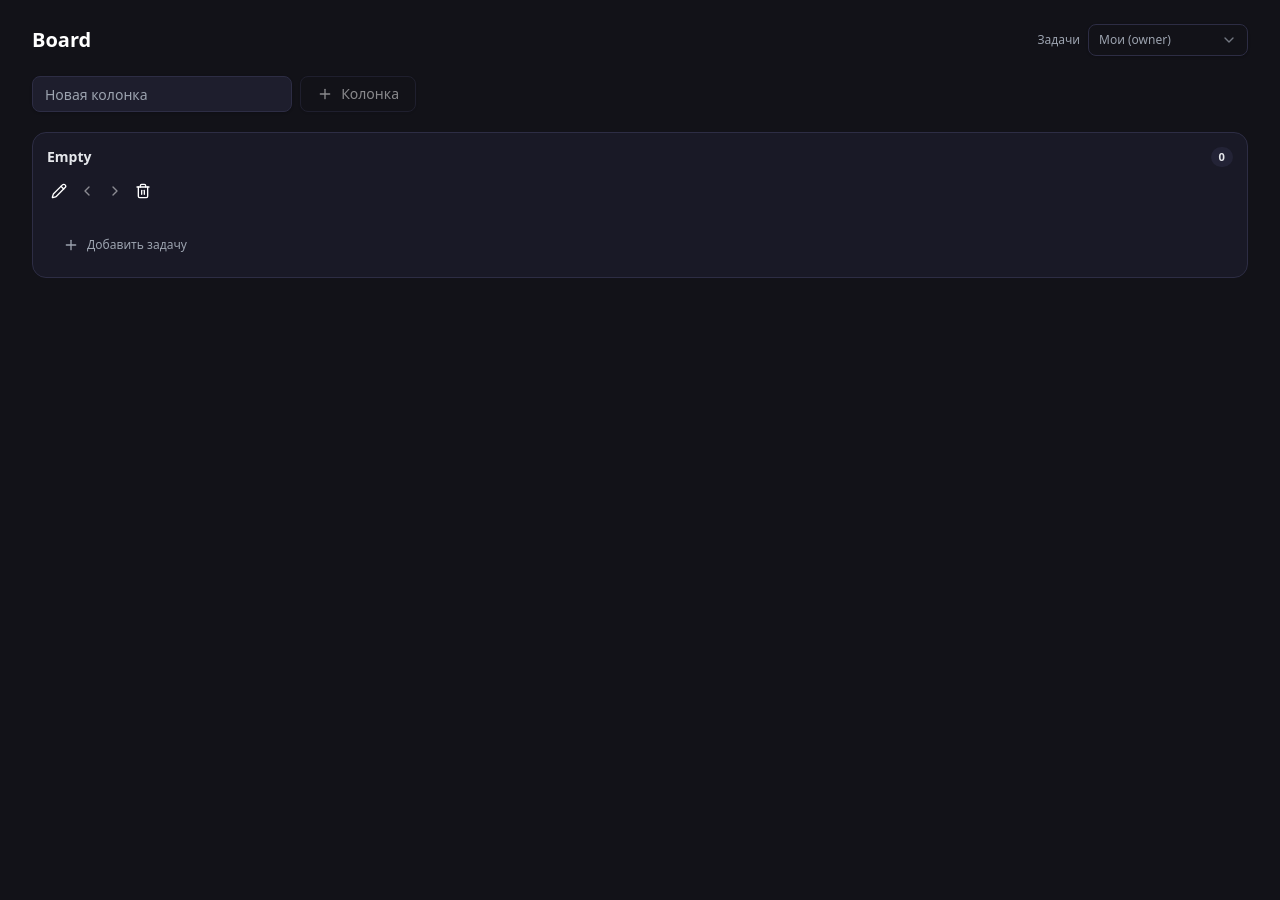
Test: keeps the delete-column dialog open on a failed request
Click the button named "Удалить колонку".
click(143, 191)  # box [131,179,155,203]
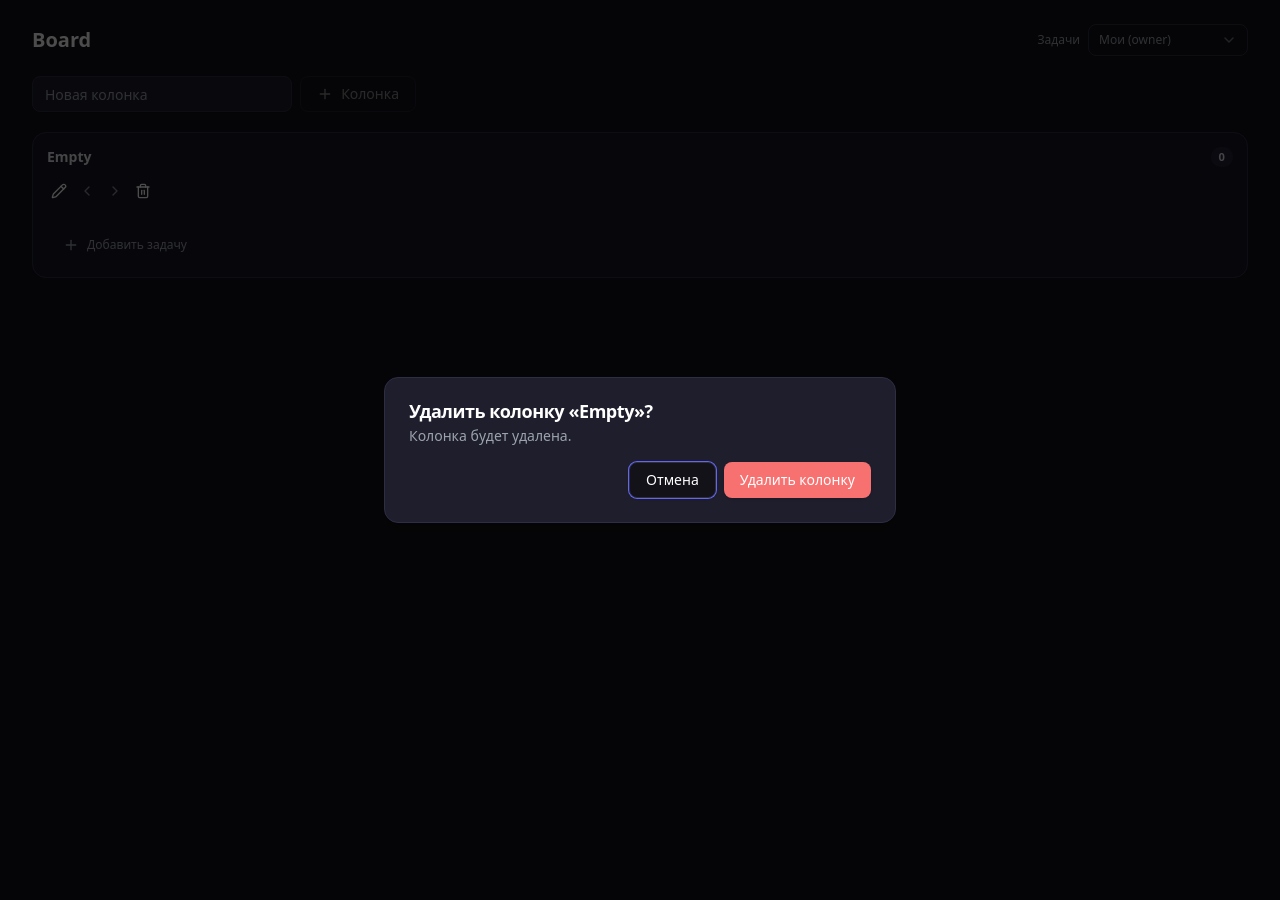
Click the button "Удалить колонку".
click(797, 480)  # box [724,462,871,498]
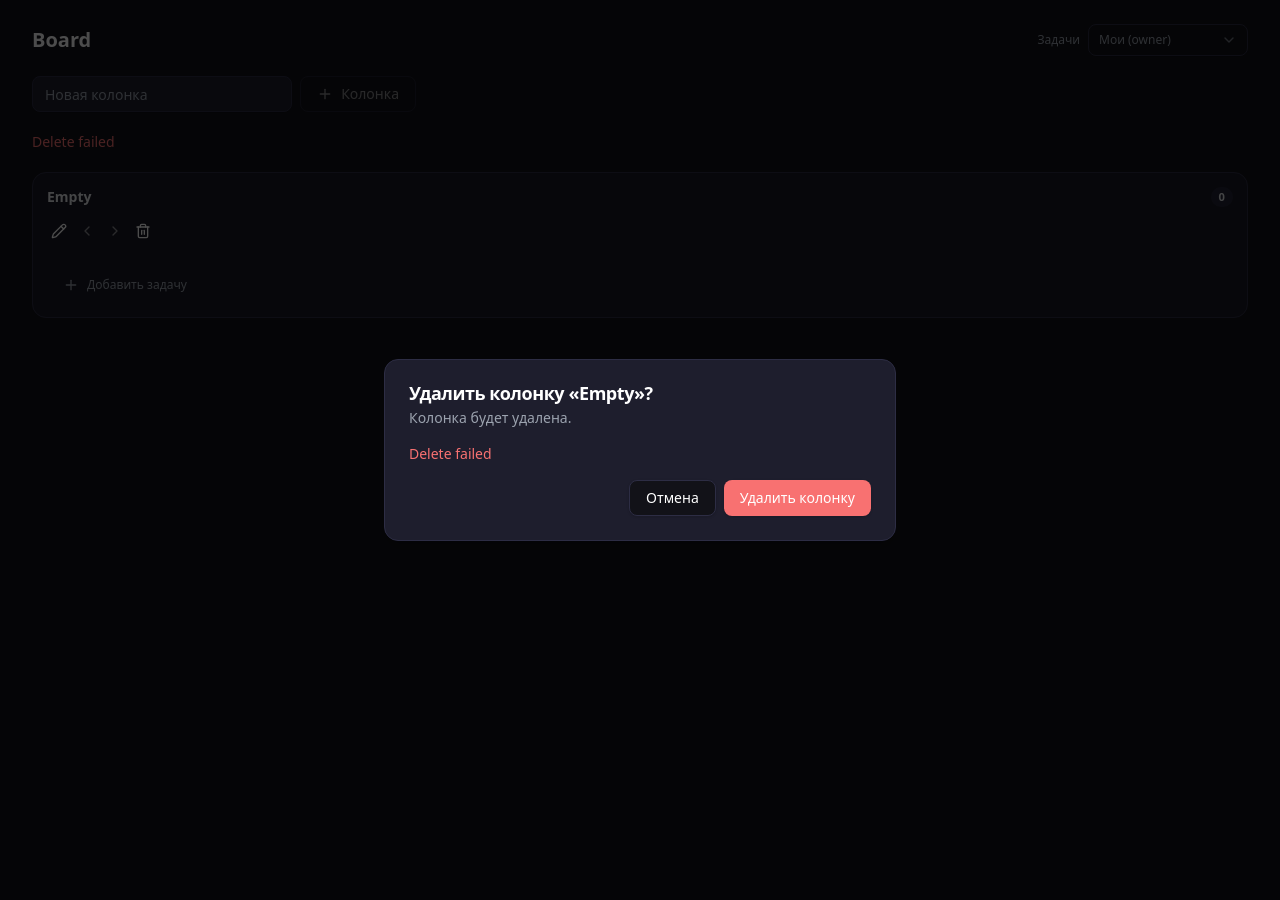
Expected: the dialog is shown, [384,359,896,541]
Expected: the message reads "Delete failed", [409,444,492,463]
